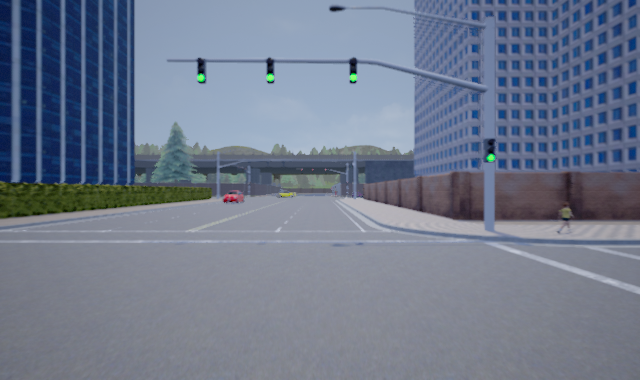pedestrian: (555, 203, 576, 235)
vehicle: (223, 189, 245, 204), (274, 190, 298, 199)
